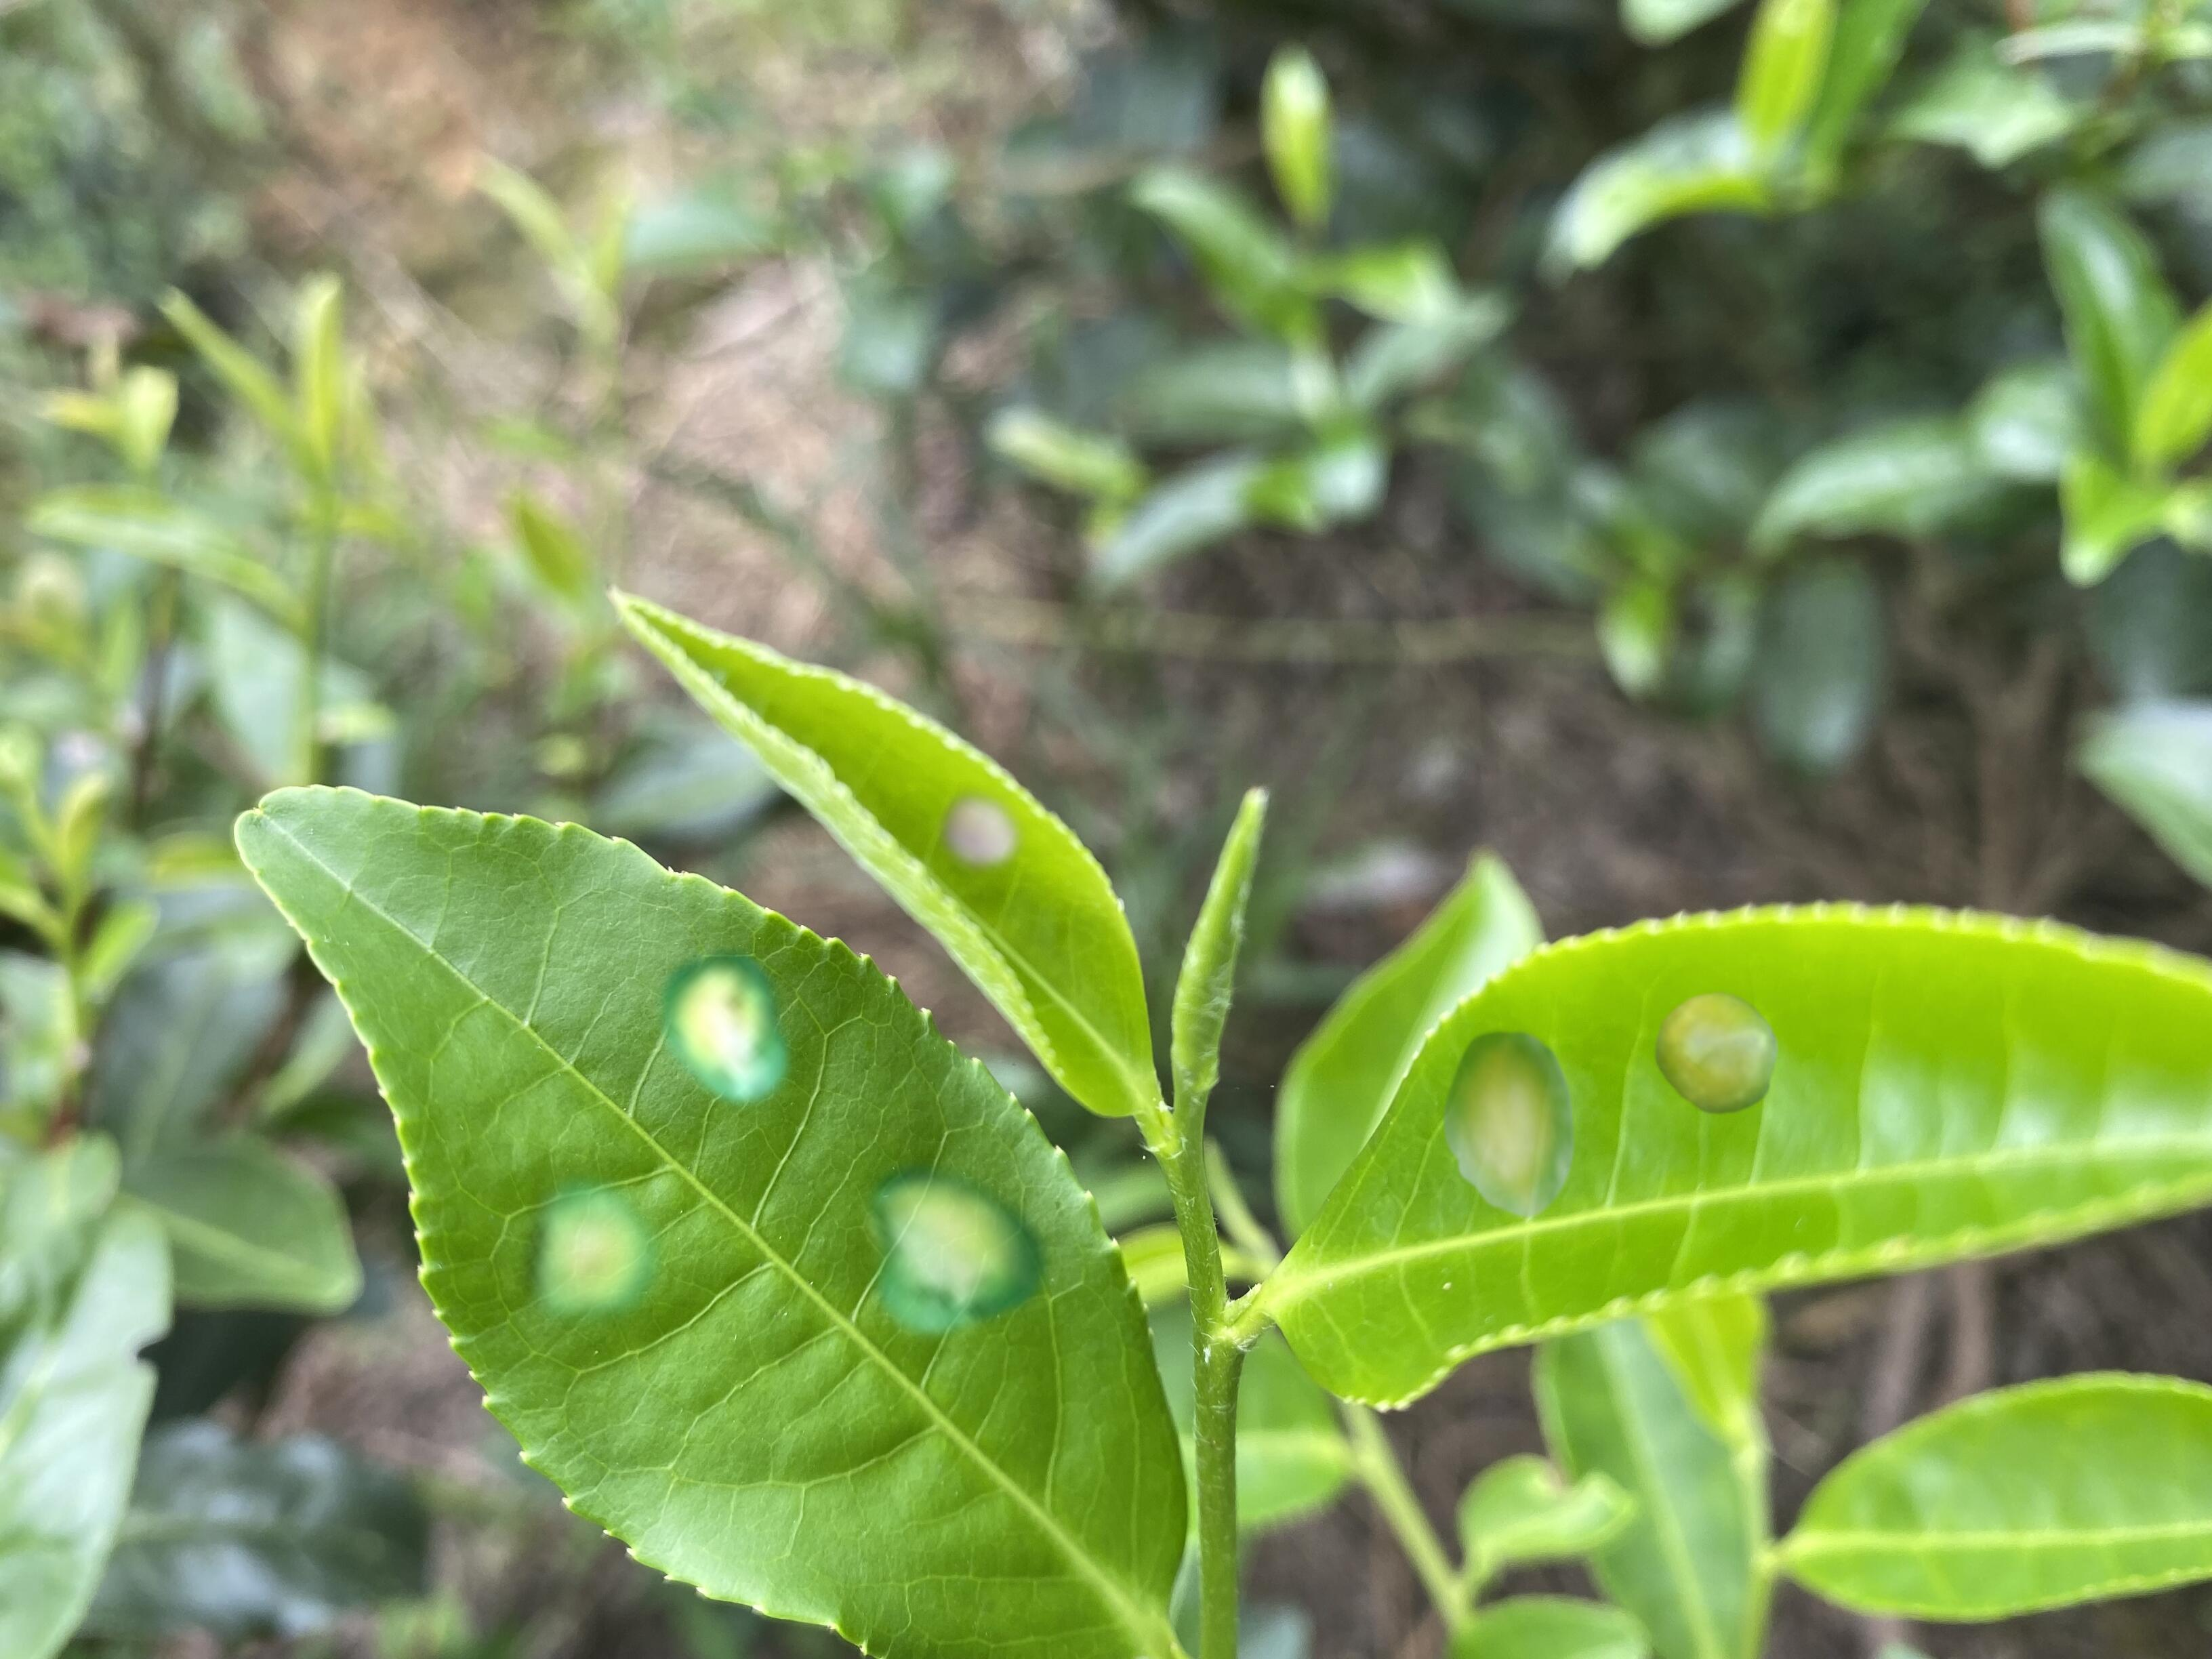chabing_high: (230, 781, 1191, 1656), (1277, 897, 2209, 1410)
chabing_low: (606, 586, 1162, 1121)
